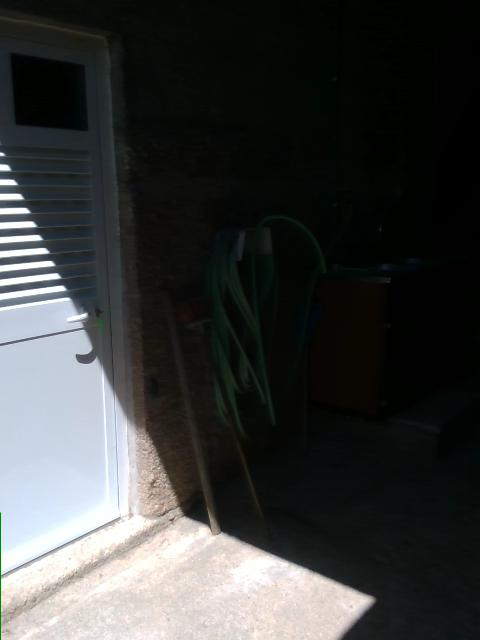door: (0, 7, 139, 584)
